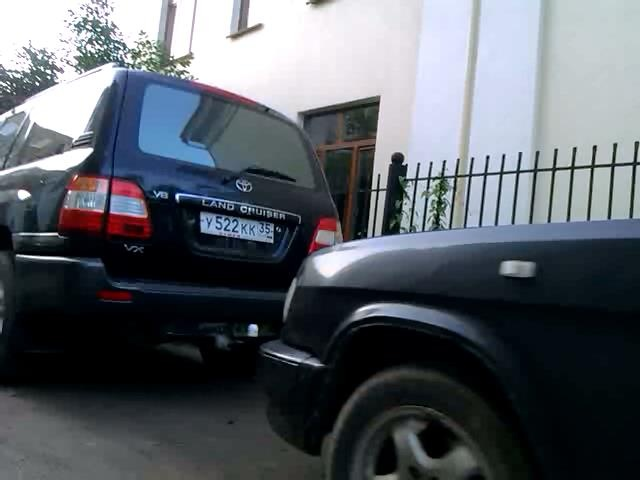car license plate: (198, 209, 276, 245)
